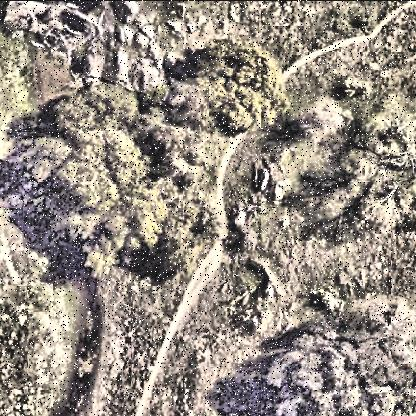tree-top: (7, 78, 177, 270), (265, 284, 413, 416), (337, 100, 416, 233), (188, 40, 291, 136)
